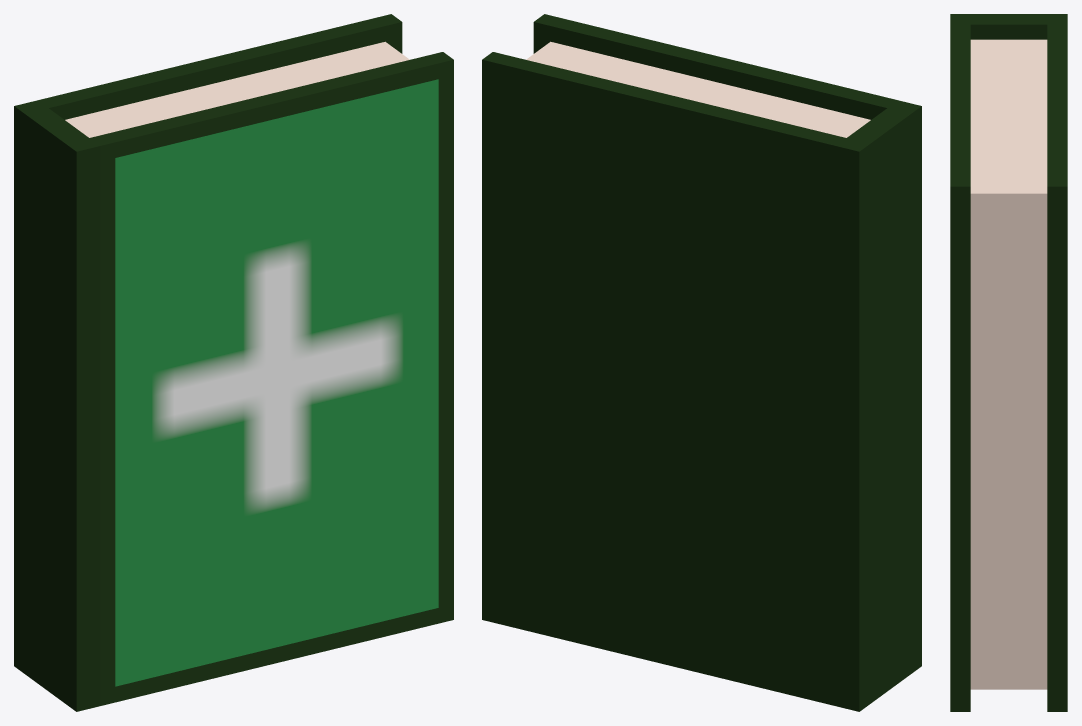
The model's file is MedBook.fbx.
3 views of the same model, side by side, from view 1: azimuth 30°, elevation 25°; view 2: azimuth 150°, elevation 25°; view 3: azimuth 270°, elevation 25° (orthographic). The views are drawn at different scales.
Visible parts, largest first — view 1: MedBook; view 2: MedBook; view 3: MedBook.
Part boxes in pixels (left/top/right/bottom): MedBook: left=14, top=14, right=453, bottom=711; MedBook: left=482, top=14, right=921, bottom=711; MedBook: left=950, top=14, right=1067, bottom=711.
Size of the model in its own units: 0.2043 by 0.2898 by 0.0585.
